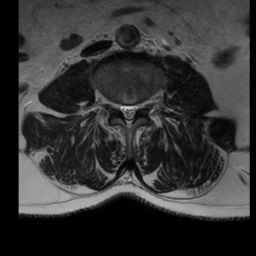CCS_normal: (125, 97, 132, 131)
LFS_normal: (139, 95, 145, 113)
LLS_normal: (132, 98, 138, 120)
RFS_normal: (111, 94, 119, 117)
RLS_normal: (118, 100, 125, 120)
